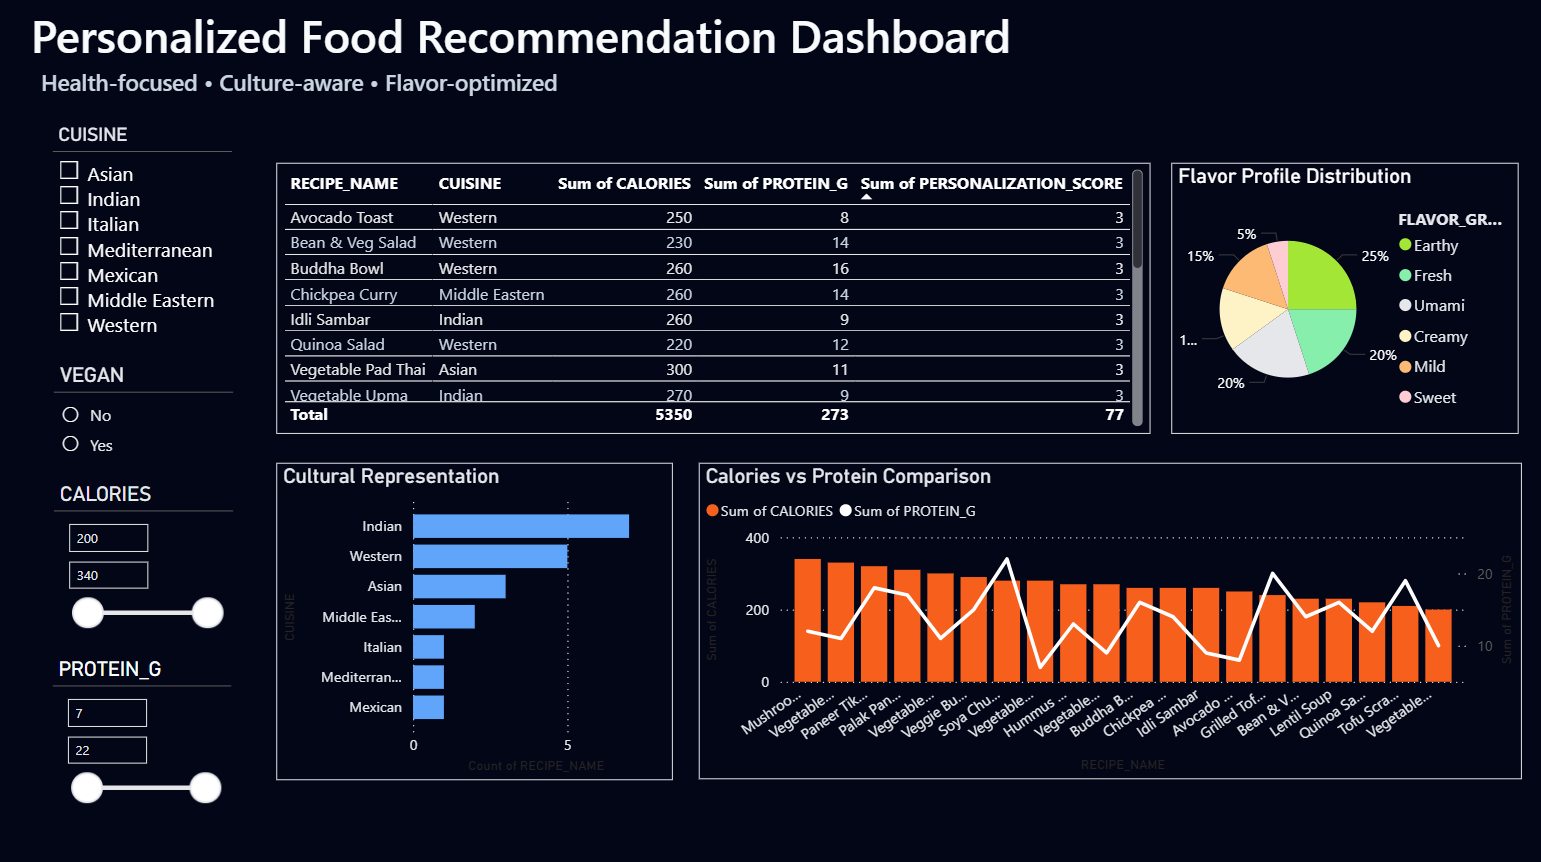

The dashboard page shown, as its layout file describes it:
{"tool":"powerbi","page":{"name":"Page 1","canvas":[1280,720],"ordinal":0},"visuals":[{"type":"textbox","box":[10.5,0,1132.6,77.9],"z":0},{"type":"textbox","box":[29.1,52.3,475.6,60.5],"z":1000},{"type":"listSlicer","fields":{"Values":["RECIPES_DB.CUISINE"]},"box":[43,103.5,148.8,186],"z":2000},{"type":"listSlicer","fields":{"Values":["RECIPES_DB.VEGAN"]},"box":[44.2,301.2,148.8,83.7],"z":3000},{"type":"slicer","title":"CALORIES","fields":{"Values":["RECIPES_DB.CALORIES"]},"box":[44.2,400,148.8,130.2],"z":4000},{"type":"slicer","title":"PROTEIN_G","fields":{"Values":["RECIPES_DB.PROTEIN_G"]},"box":[43,545.4,147.7,125.6],"z":5000},{"type":"tableEx","fields":{"Values":["RECIPES_DB.RECIPE_NAME","RECIPES_DB.CUISINE","Sum(RECIPES_DB.CALORIES)","Sum(RECIPES_DB.PROTEIN_G)","Sum(RECIPES_DB.PERSONALIZATION_SCORE)"]},"box":[229.1,136,724.4,224.4],"z":6000},{"type":"pieChart","title":"Flavor Profile Distribution","fields":{"Category":["RECIPES_DB.FLAVOR_GROUP"],"Y":["CountNonNull(RECIPES_DB.RECIPE_NAME)"]},"box":[970.9,136,288.4,224.4],"z":7000},{"type":"lineStackedColumnComboChart","title":"Calories vs Protein Comparison","fields":{"Category":["RECIPES_DB.RECIPE_NAME"],"Y":["Sum(RECIPES_DB.CALORIES)"],"Y2":["Sum(RECIPES_DB.PROTEIN_G)"]},"box":[579.1,384.9,682.6,262.8],"z":8000},{"type":"barChart","title":"Cultural Representation","fields":{"Category":["RECIPES_DB.CUISINE"],"Y":["CountNonNull(RECIPES_DB.RECIPE_NAME)"]},"box":[229,384.5,328.5,263.2],"z":9000}]}

Visuals, with their boxes in screenshot pixels (x1, y1, x2, y2), scaled from the page's 1280x720 canvas onto the 1541x862 screenshot:
textbox: 13 0 1376 93
textbox: 35 63 608 135
listSlicer - RECIPES_DB.CUISINE: 52 124 231 347
listSlicer - RECIPES_DB.VEGAN: 53 361 232 461
"CALORIES" slicer: 53 479 232 635
"PROTEIN_G" slicer: 52 653 230 803
tableEx - RECIPES_DB.RECIPE_NAME x RECIPES_DB.CUISINE: 276 163 1148 431
"Flavor Profile Distribution" pieChart: 1169 163 1516 431
"Calories vs Protein Comparison" lineStackedColumnComboChart: 697 461 1519 775
"Cultural Representation" barChart: 276 460 671 775
